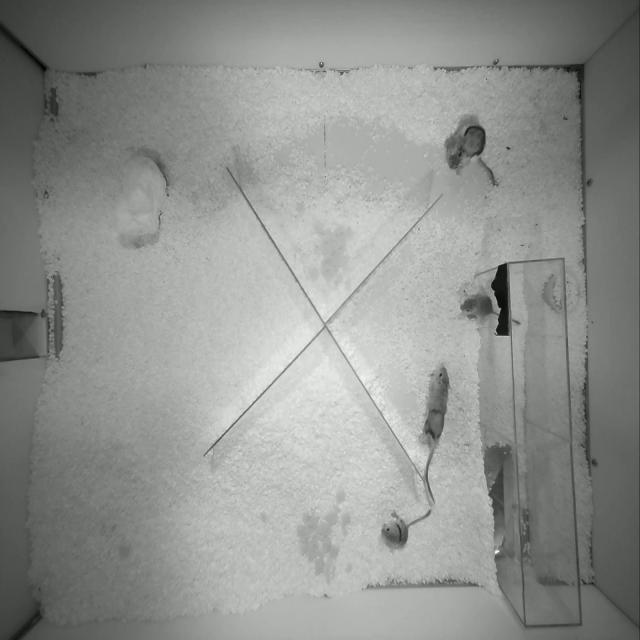adult_back: (423, 365, 450, 505)
adult_front: (448, 125, 496, 185)
pup_fluffy: (460, 293, 500, 319)
pup_h_stripe: (382, 511, 430, 546)
